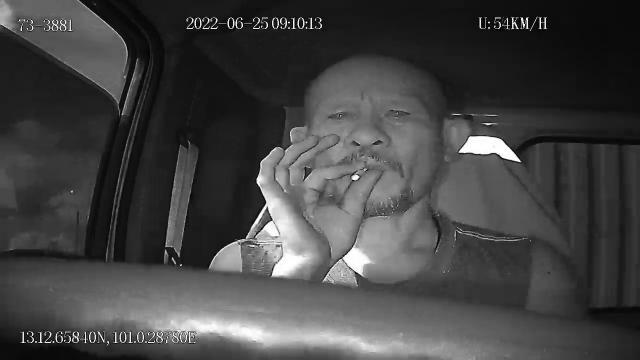SafeDriving: (378, 98, 418, 128), (319, 103, 359, 126)
Smoking: (352, 168, 366, 180)
